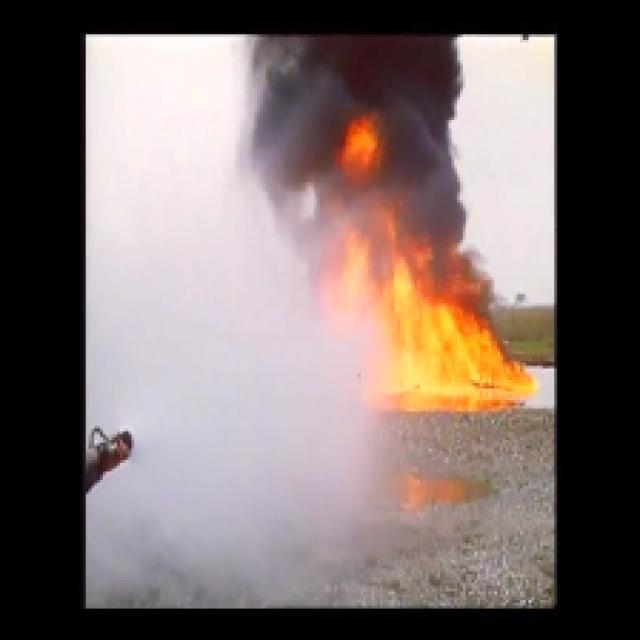fire: (392, 310, 512, 408)
smoke: (274, 44, 448, 130), (397, 146, 465, 295)
